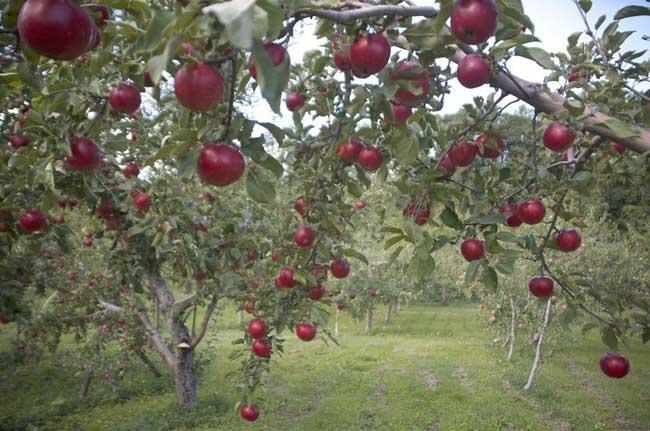apple: (16, 1, 100, 61), (172, 61, 224, 112), (349, 31, 390, 77), (457, 55, 491, 90), (543, 122, 574, 151), (599, 352, 630, 378), (461, 238, 485, 262), (239, 404, 260, 421)
